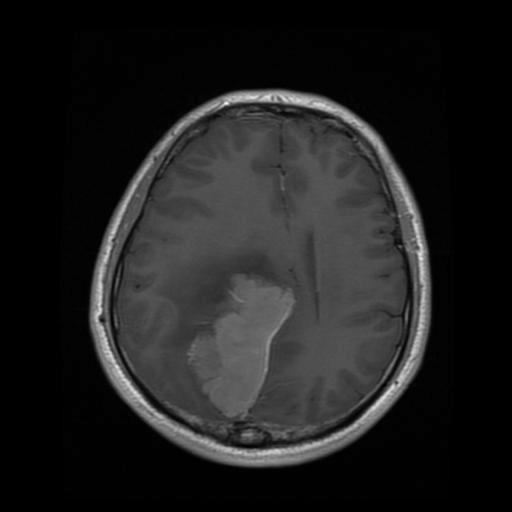Tumour-Meningioma: (167, 233, 301, 431)
